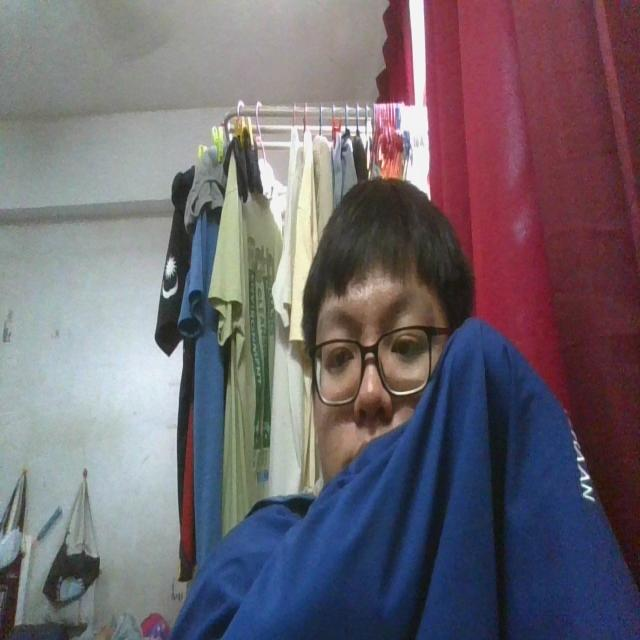person_without_labcoat: (172, 181, 639, 639)
